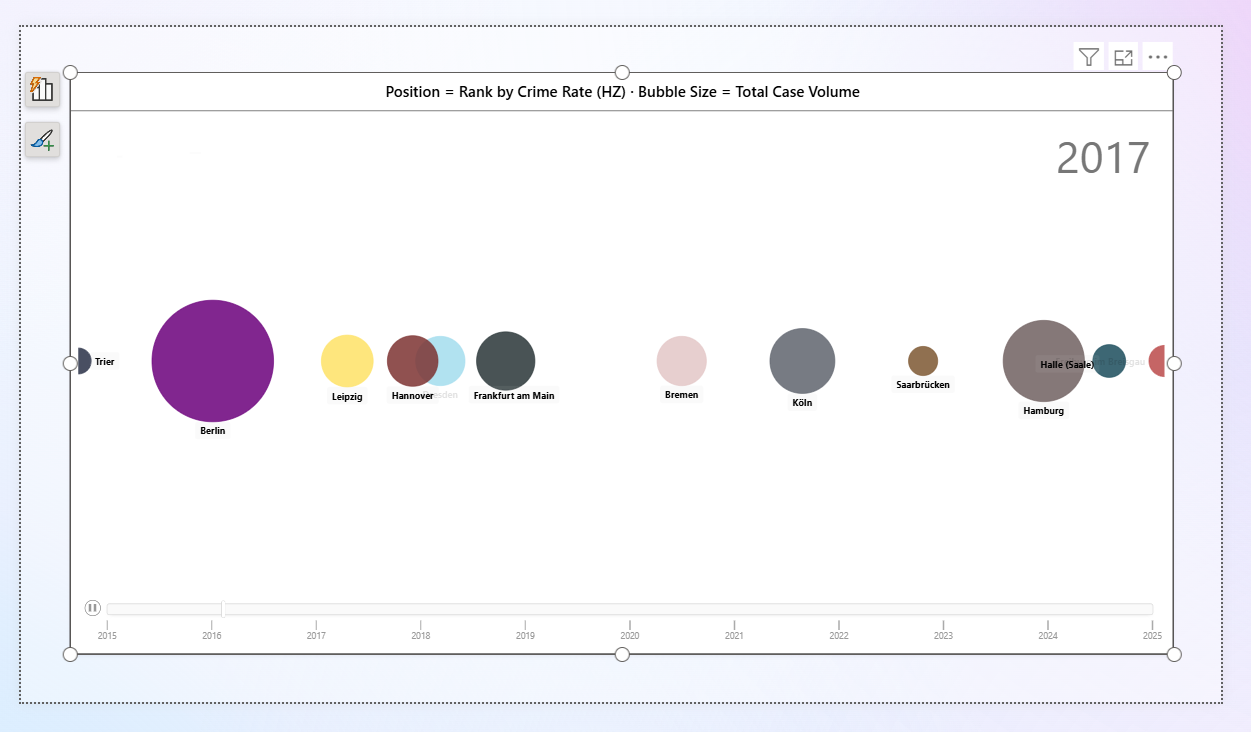

Layout of this report page (visuals, bound fields, positions):
{"tool":"powerbi","page":{"name":"TOP 10 Rank Race Animated","canvas":[1920,1080],"ordinal":3},"visuals":[{"type":"scatterChart","title":"Position = Rank by Crime Rate (HZ) · Bubble Size = Total Case Volume","fields":{"Play":["Dim_Year.Year"],"Series":["Dim_City.Stadt"],"Size":["Sum(Fact_Crime.erfasste Fälle)"],"X":["Fact_Crime.Rank_HZ_Chart"],"Y":["Fact_Crime.PlayAxisY"]},"box":[142.5,125,1702.5,880],"z":0},{"type":"actionButton","box":[0,0,181.8,99.2],"z":1},{"type":"actionButton","box":[1727.5,0,192.5,100],"z":2}]}

Visuals, with their boxes on the page's 1920x1080 design canvas (x1, y1, x2, y2). These are canvas units, not pixel positions in the 1251x732 screenshot, which may show the page scaled, cropped or inside an application window:
"Position = Rank by Crime Rate (HZ) · Bubble Size = Total Case Volume" scatterChart: detection(142, 125, 1845, 1005)
actionButton: detection(0, 0, 182, 99)
actionButton: detection(1728, 0, 1920, 100)
